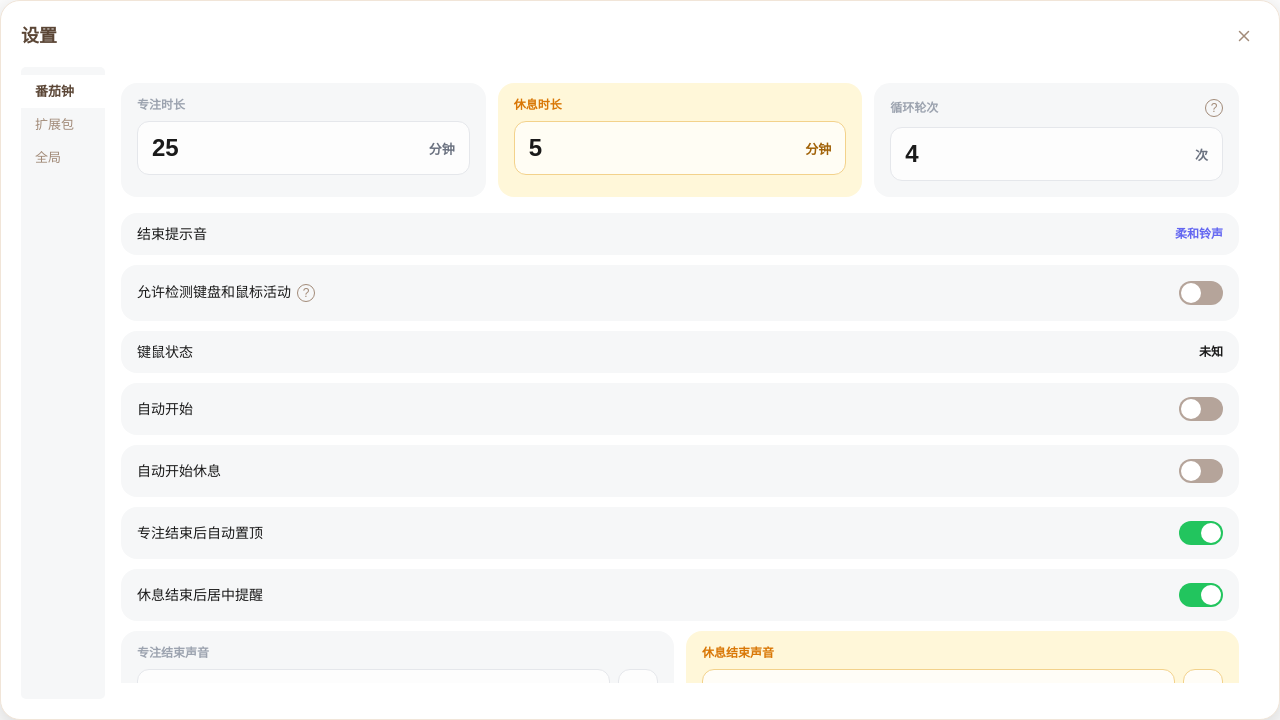
Scenario: SettingsPanel › downloads video editing and offers Open without adding a settings tab
Click the button "扩展包" at (63, 124), box [21,108,105,141]
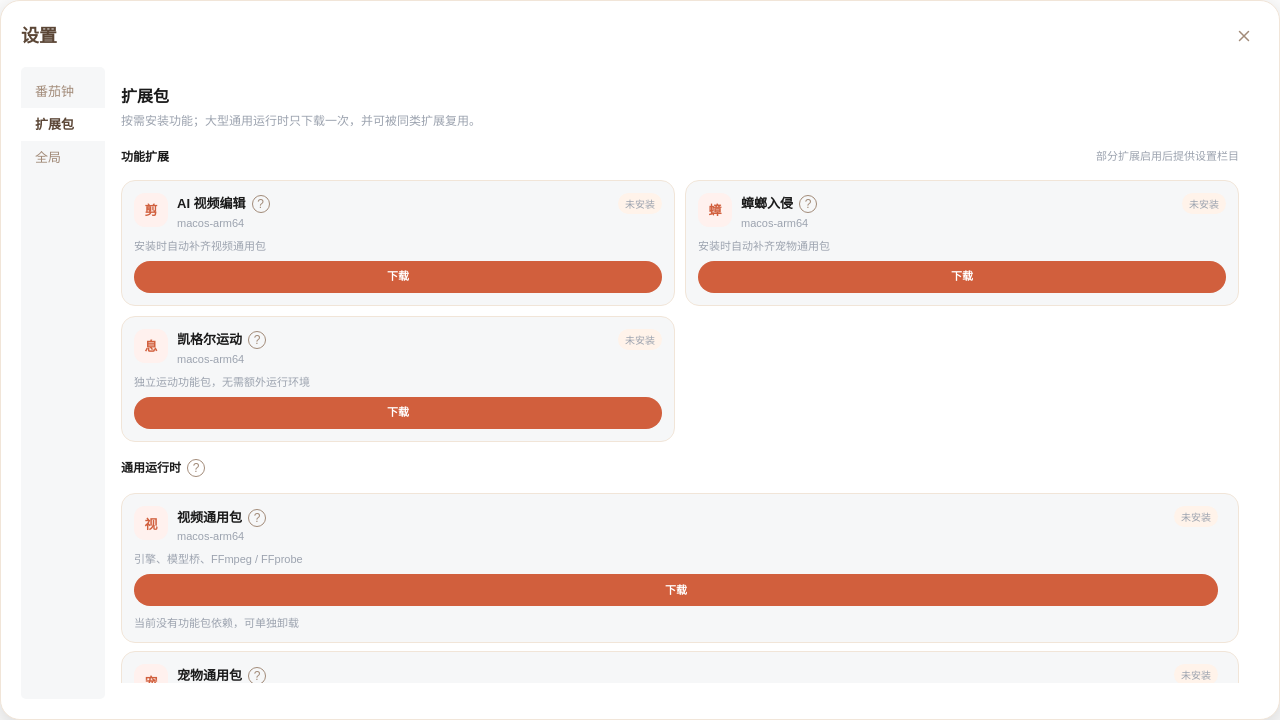
Expected: the text "安装时自动补齐视频通用包" is shown, [134,240,266,252]
Click the button with aria-label "下载 AI 视频编辑" at (398, 277), box [134,261,662,293]
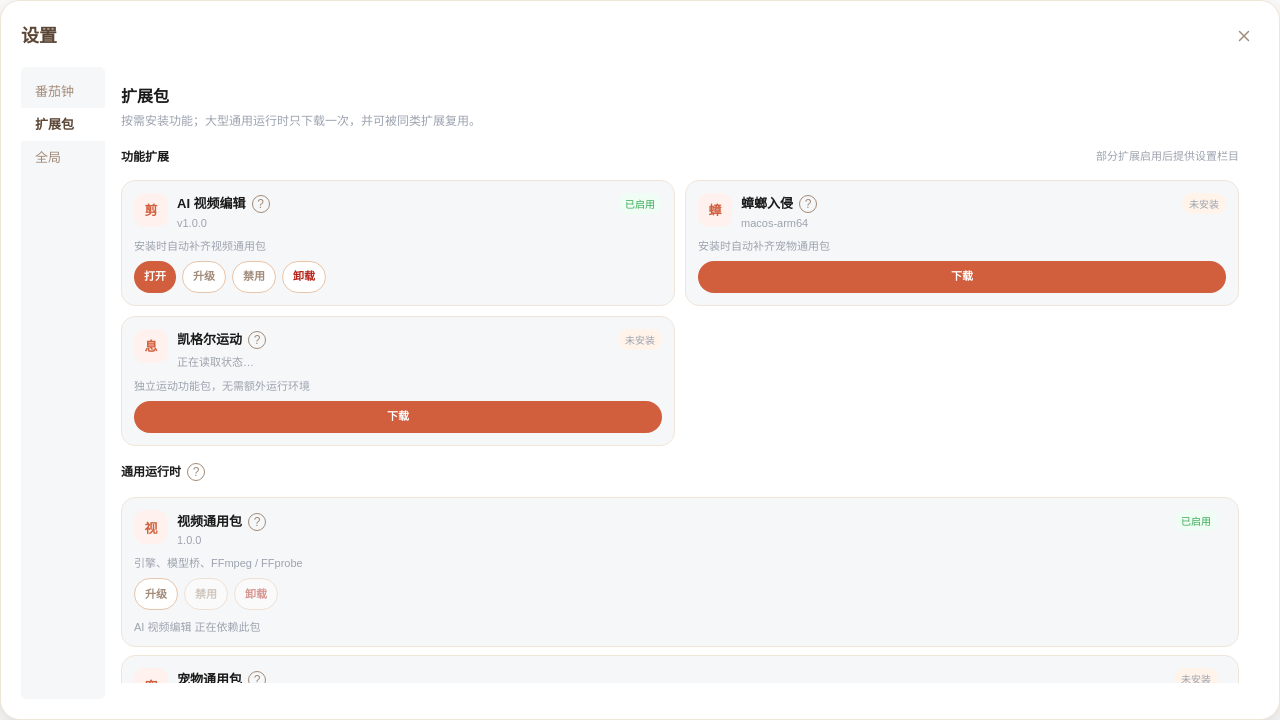
Expected: the button with aria-label "打开 AI 视频编辑" is shown, [134,261,176,293]
